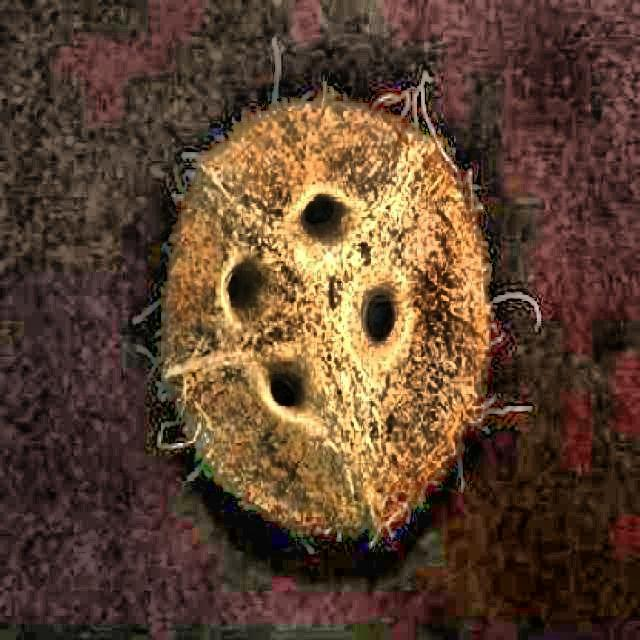cracked-coconut: (157, 92, 520, 525)
